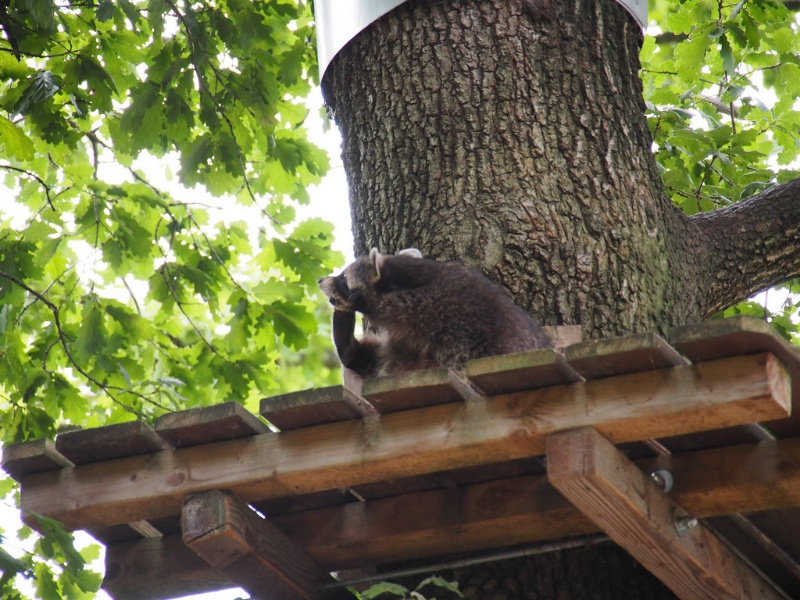raccoon: (323, 242, 557, 378)
